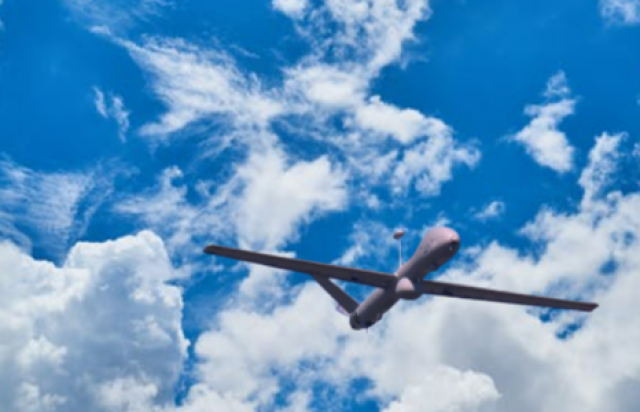military drone: (202, 225, 599, 332)
